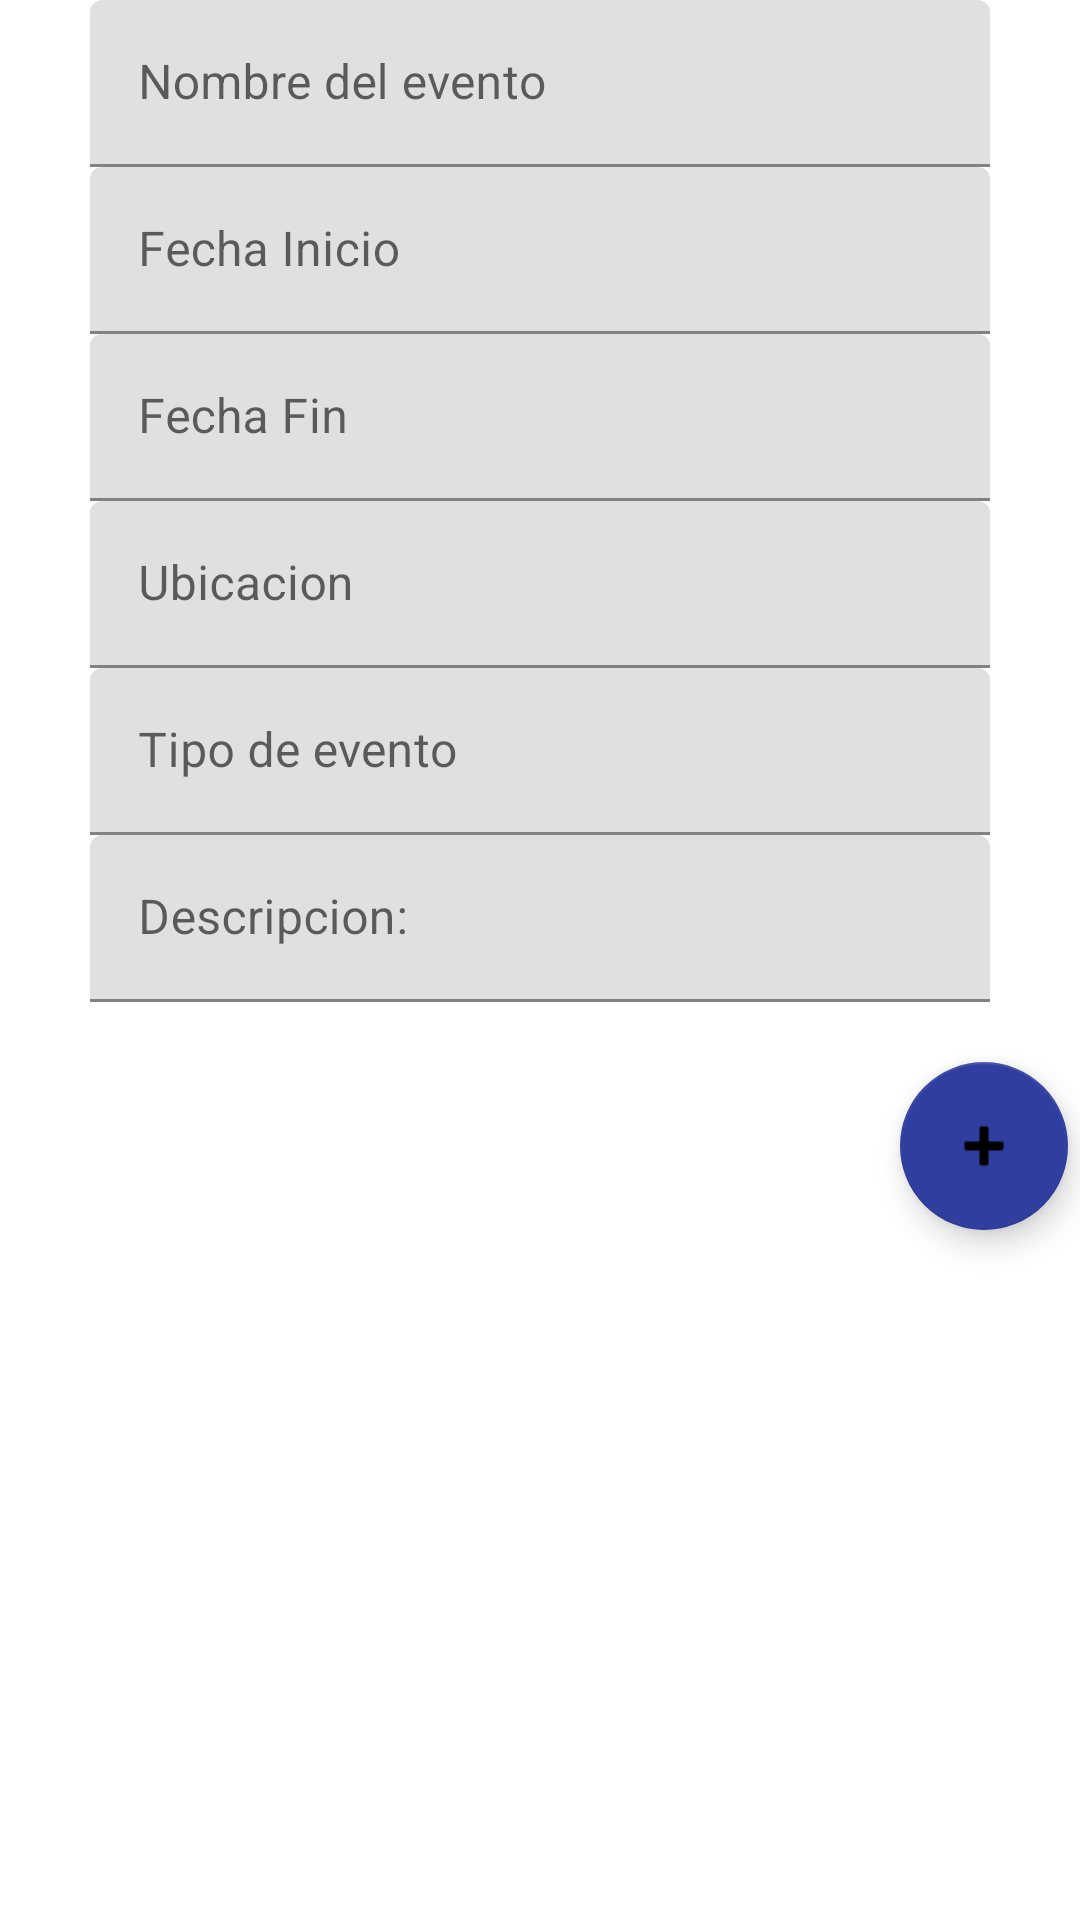

Icon click points for this 1080x1920 phone screenshot, format (x,y):
add: (984,1146)
